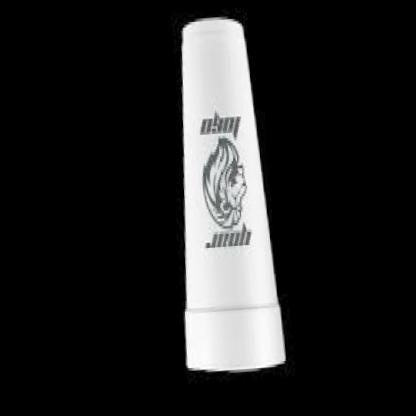trash: (182, 18, 284, 370)
